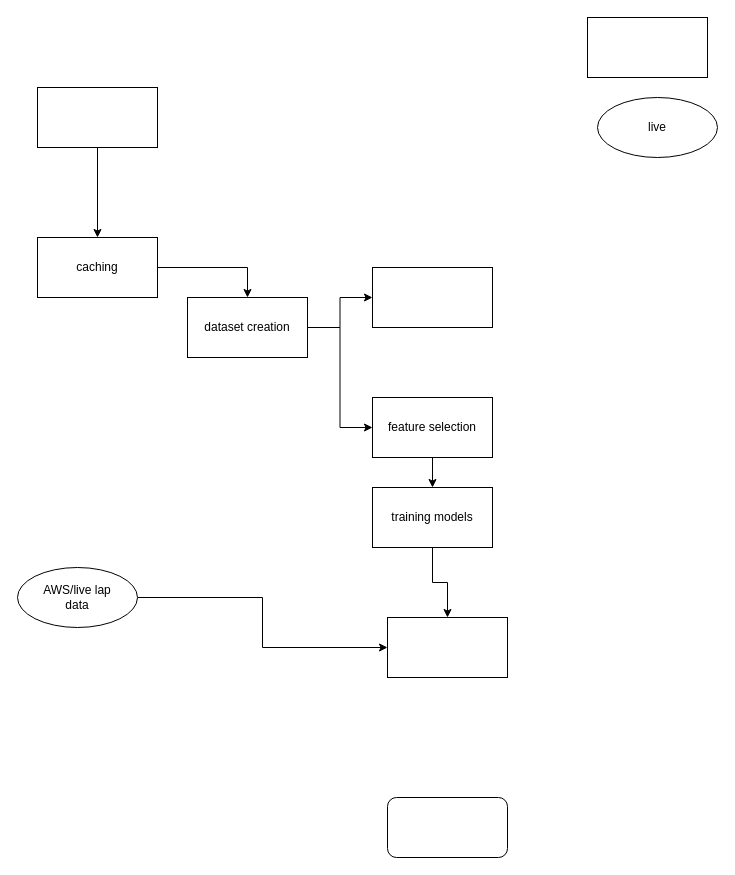
This 735x875 diagram has some shape labels left out. The centre of each missing label's shape, as x and y in pixels:
API calls: pixel 97 117
data visualization: pixel 432 297
pit prediction: pixel 447 647
